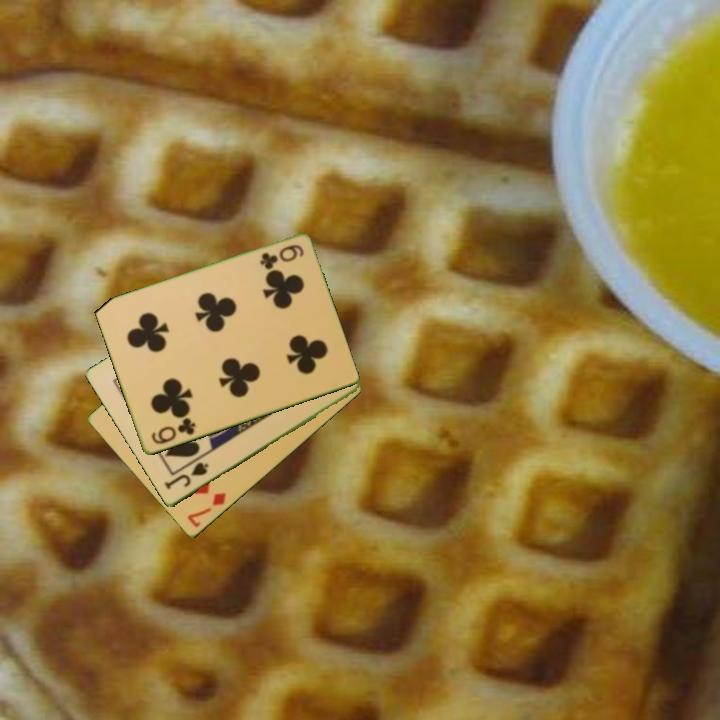6c: (148, 415, 198, 447), (256, 241, 306, 272)
7d: (184, 489, 229, 531)
Js: (161, 459, 211, 493)
